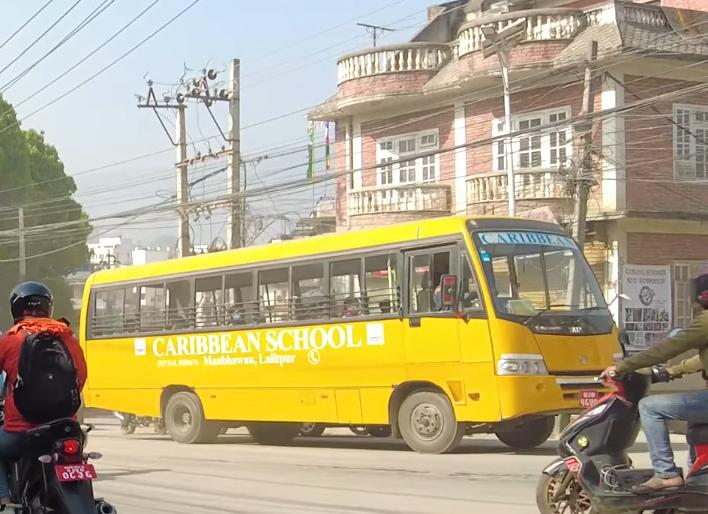school_bus: (71, 212, 628, 454)
scooter: (532, 360, 708, 514)
